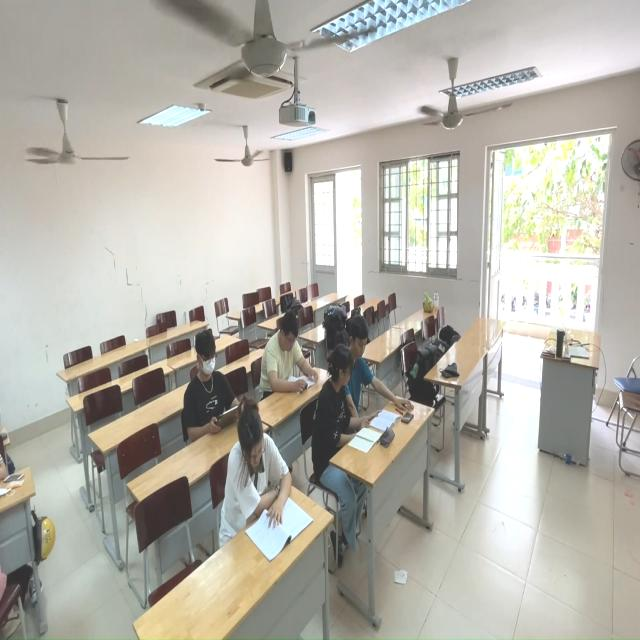read: (220, 396, 293, 534), (346, 316, 413, 419), (315, 347, 364, 478), (184, 334, 243, 437), (260, 311, 321, 395)
